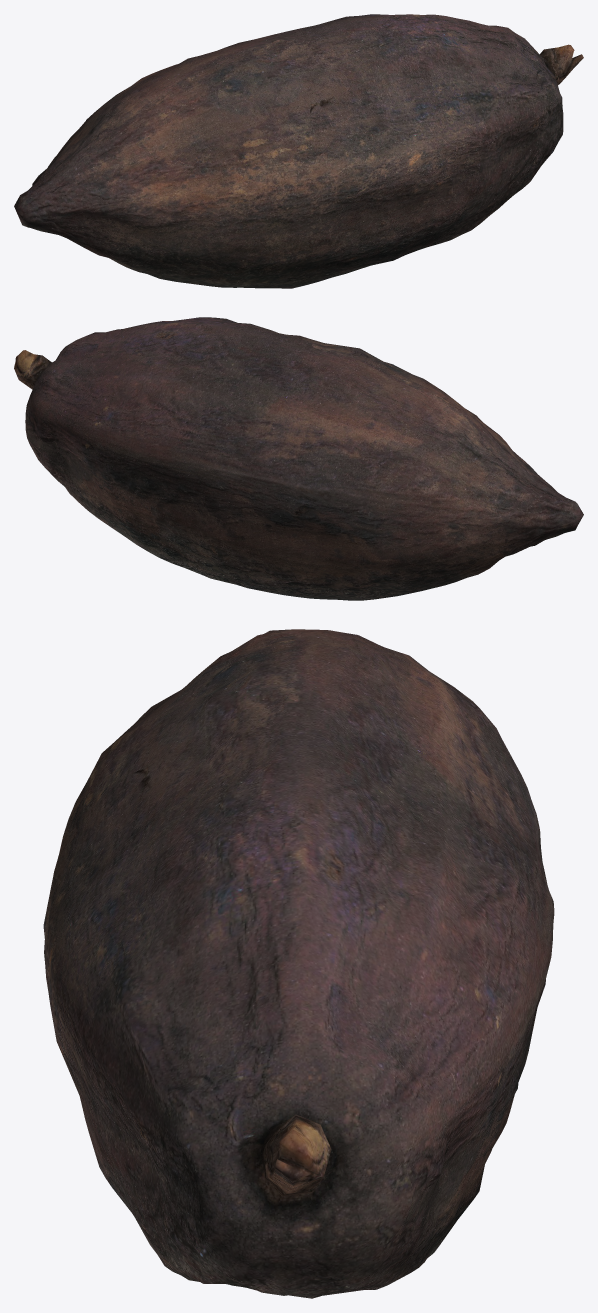
Rendered from cocoabean Scan.glb.
3 renders of one model, top to bottom at view 1: azimuth 30°, elevation 25°; view 2: azimuth 150°, elevation 25°; view 3: azimuth 270°, elevation 25°, orthographic. The views are drawn at different scales.
Visible parts, largest first — view 1: Cocoabean_export; view 2: Cocoabean_export; view 3: Cocoabean_export.
Boxes of the visible parts, x1=… form: Cocoabean_export: x1=14, y1=14, x2=583, y2=288; Cocoabean_export: x1=14, y1=317, x2=583, y2=600; Cocoabean_export: x1=43, y1=629, x2=554, y2=1298.
Size of the model in its own units: 0.7418 by 0.291 by 0.2902.
Materials: 1 (1 with a texture image).
